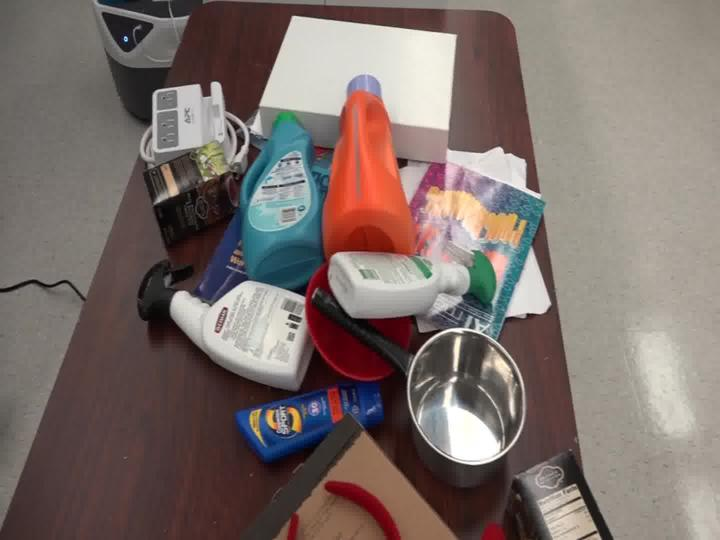downy: (229, 98, 328, 294)
